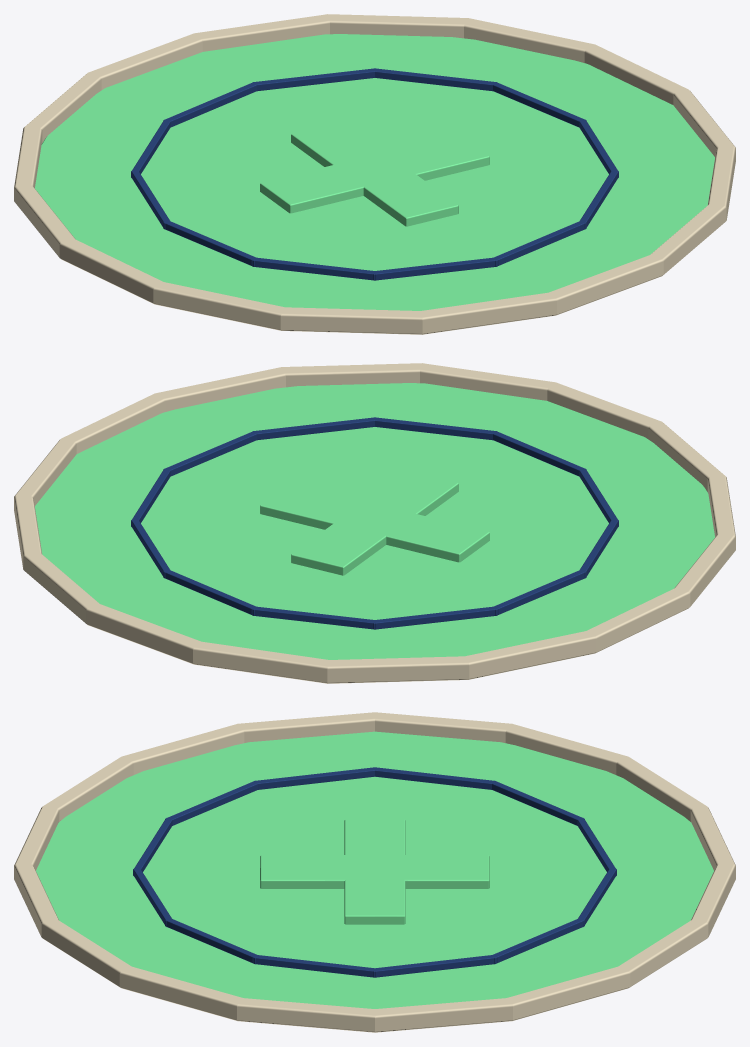
The model's file is mending_seal.glb.
3 views of the same model, one above another, from view 1: azimuth 30°, elevation 25°; view 2: azimuth 150°, elevation 25°; view 3: azimuth 270°, elevation 25° (orthographic).
Visible parts, largest first — view 1: field, cross_h, cross_v, seal_rim_5, seal_rim_4, seal_rim_6, seal_rim_3, seal_rim_13, seal_rim_12, seal_rim_7, seal_rim_14, seal_rim_11 (+19 smaller); view 2: field, cross_h, cross_v, seal_rim_10, seal_rim_11, seal_rim_9, seal_rim_12, seal_rim_2, seal_rim_3, seal_rim_8, seal_rim_1, seal_rim_4 (+19 smaller); view 3: field, cross_h, cross_v, seal_rim_0, seal_rim_15, seal_rim_14, seal_rim_1, seal_rim_8, seal_rim_7, seal_rim_6, seal_rim_9, seal_rim_2 (+19 smaller).
Part boxes in pixels (bbox=[...]): field: bbox=[35, 34, 714, 310]; cross_h: bbox=[260, 134, 489, 213]; cross_v: bbox=[291, 121, 458, 226]; seal_rim_5: bbox=[280, 307, 422, 334]; seal_rim_4: bbox=[417, 292, 556, 334]; seal_rim_6: bbox=[153, 282, 287, 330]; seal_rim_3: bbox=[546, 255, 663, 315]; seal_rim_13: bbox=[327, 14, 468, 38]; seal_rim_12: bbox=[194, 14, 332, 51]; seal_rim_7: bbox=[59, 238, 165, 304]; seal_rim_14: bbox=[464, 18, 594, 62]; seal_rim_11: bbox=[88, 33, 203, 89]; field: bbox=[35, 383, 714, 659]; cross_h: bbox=[260, 483, 489, 562]; cross_v: bbox=[291, 470, 458, 575]; seal_rim_10: bbox=[326, 656, 469, 683]; seal_rim_11: bbox=[193, 641, 332, 683]; seal_rim_9: bbox=[462, 631, 596, 679]; seal_rim_12: bbox=[86, 604, 203, 664]; seal_rim_2: bbox=[281, 363, 423, 387]; seal_rim_3: bbox=[418, 363, 555, 400]; seal_rim_8: bbox=[584, 587, 690, 653]; seal_rim_1: bbox=[155, 367, 287, 411]; seal_rim_4: bbox=[547, 382, 661, 438]; field: bbox=[36, 731, 713, 1008]; cross_h: bbox=[344, 819, 405, 924]; cross_v: bbox=[260, 855, 489, 888]; seal_rim_0: bbox=[237, 998, 377, 1032]; seal_rim_15: bbox=[373, 998, 512, 1032]; seal_rim_14: bbox=[505, 966, 630, 1020]; seal_rim_1: bbox=[119, 966, 242, 1020]; seal_rim_8: bbox=[372, 712, 512, 742]; seal_rim_7: bbox=[238, 712, 377, 742]; seal_rim_6: bbox=[122, 724, 245, 774]; seal_rim_9: bbox=[505, 724, 627, 774]; seal_rim_2: bbox=[41, 918, 130, 987].
Size of the model in its own units: 1.89 by 0.055 by 1.89.
